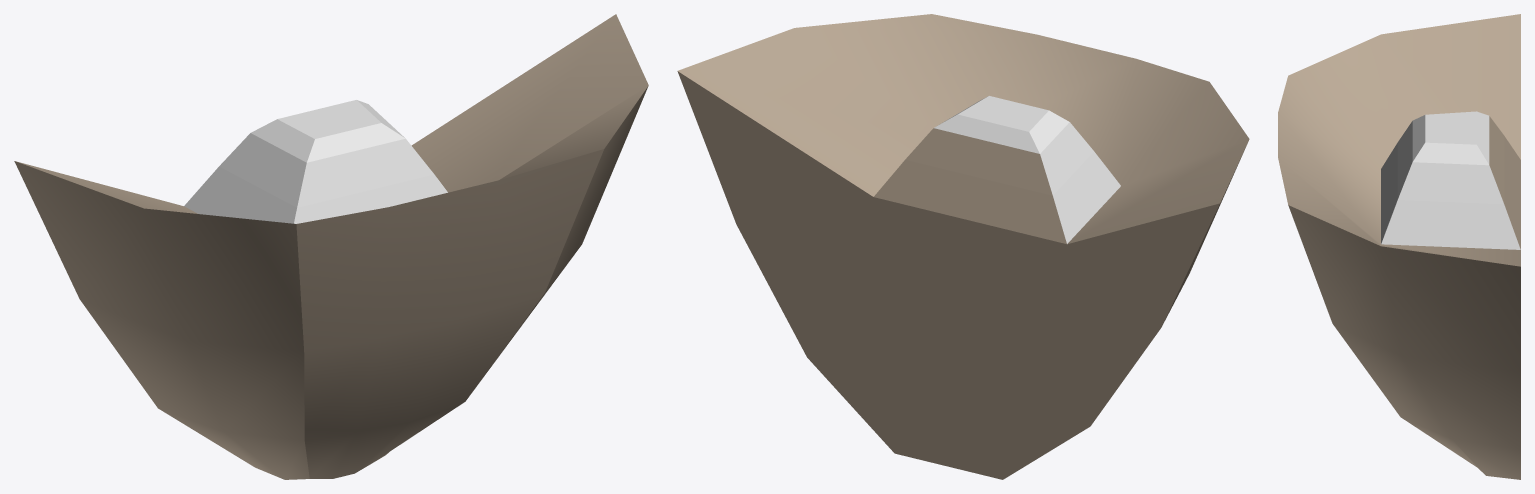
File: wall lamp.fbx
3 views of the same model, side by side, from view 1: azimuth 30°, elevation 25°; view 2: azimuth 150°, elevation 25°; view 3: azimuth 270°, elevation 25° (orthographic). The views are drawn at different scales.
Visible parts, largest first — view 1: pCube47; view 2: pCube47; view 3: pCube47.
Part boxes in pixels (<box>): pCube47: <box>14,14,648,479</box>; pCube47: <box>677,14,1249,479</box>; pCube47: <box>1278,14,1520,479</box>.
Size of the model in its own units: 1 by 0.5844 by 0.4059.
